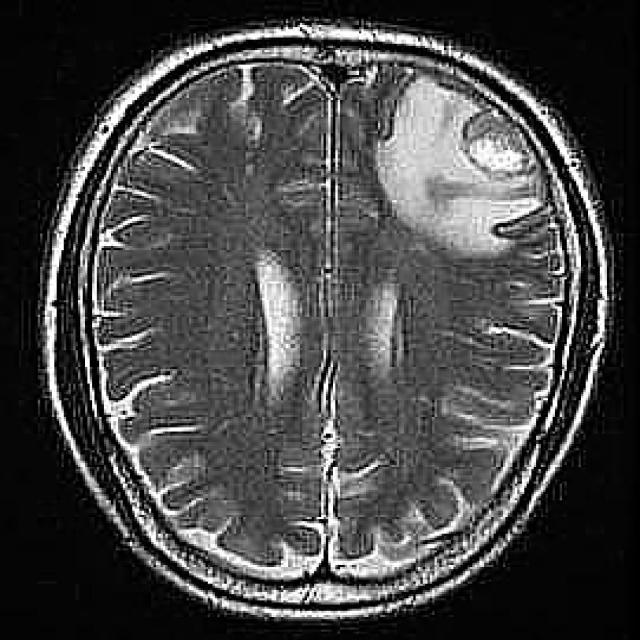Tumor-Cell: (385, 101, 538, 257)
